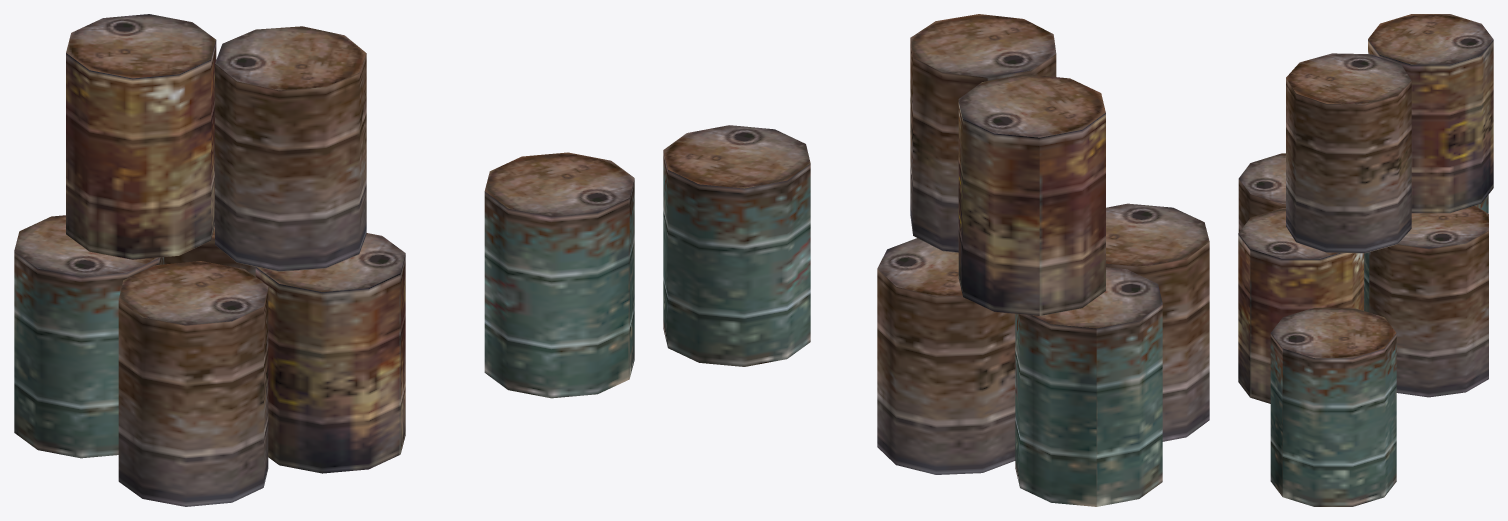
Rendered from Mbarrel2.glb.
3 renders of one model, left to right at view 1: azimuth 30°, elevation 25°; view 2: azimuth 150°, elevation 25°; view 3: azimuth 270°, elevation 25°, orthographic. The views are drawn at different scales.
Visible parts, largest first — view 1: _Mbarrel2; view 2: _Mbarrel2; view 3: _Mbarrel2.
Boxes of the visible parts, <box> form: _Mbarrel2: <box>14,14,634,506</box>; _Mbarrel2: <box>663,14,1209,506</box>; _Mbarrel2: <box>1238,14,1493,506</box>.
Bounding box in the file's own units: 4.11 × 2.65 × 2.05.
1 material, 1 textured.
